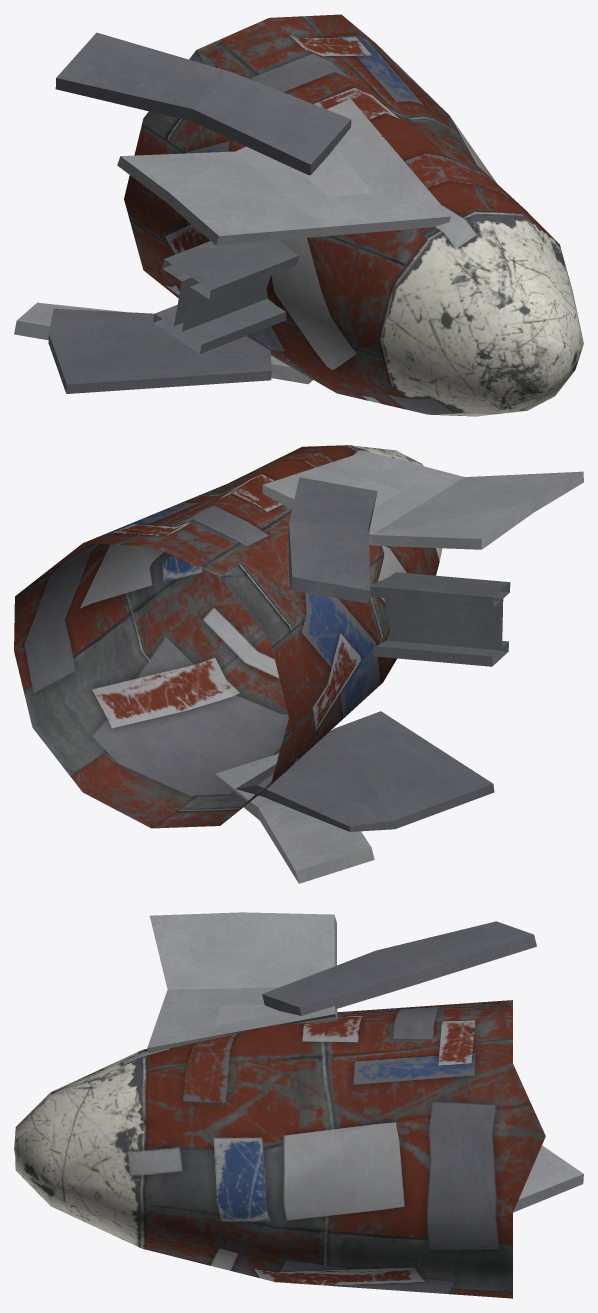
The model's file is HCP1.fbx.
3 views of the same model, one above another, from view 1: azimuth 30°, elevation 25°; view 2: azimuth 150°, elevation 25°; view 3: azimuth 270°, elevation 25° (orthographic). The views are drawn at different scales.
Parts seen in each view (by area): view 1: oneD; view 2: oneD; view 3: oneD.
Boxes of the visible parts, x1,y1,x2,y2 form: oneD: [14, 14, 583, 416]; oneD: [14, 445, 583, 883]; oneD: [14, 912, 583, 1298].
Bounding box in the file's own units: 4823 × 3401 × 6228.
Materials: 1 (1 with a texture image).
